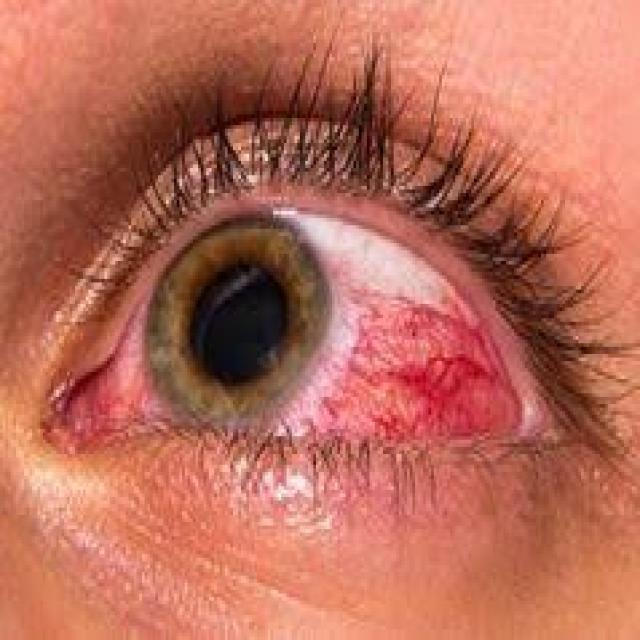Conjunctivitis: (36, 258, 531, 480)
